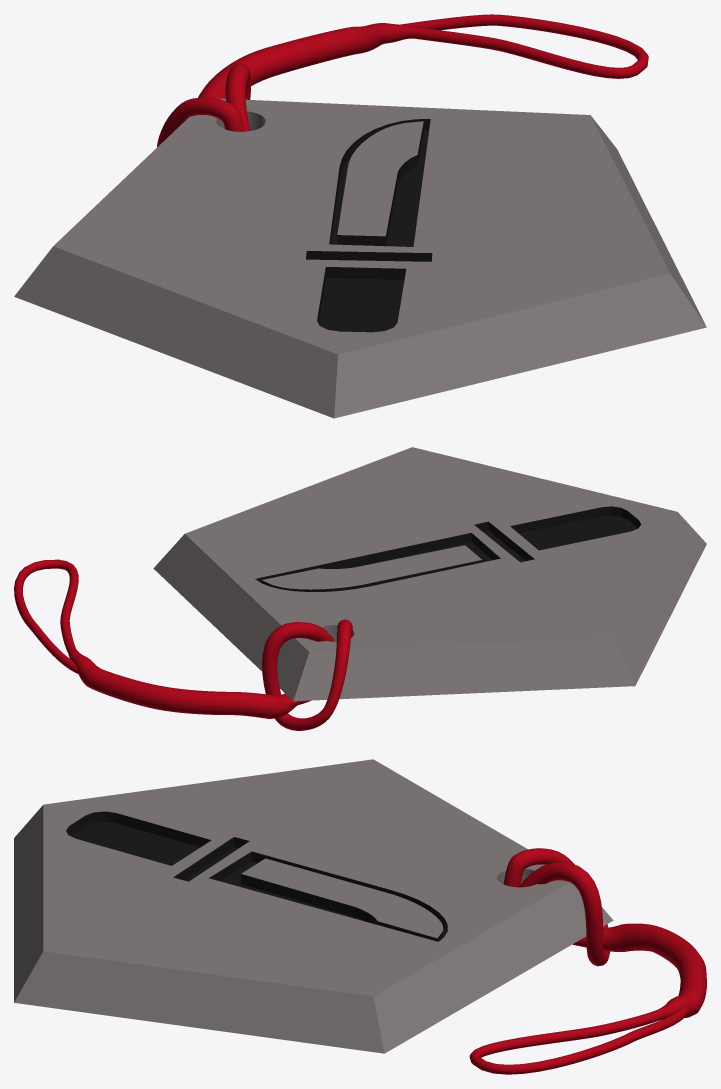
3 views of the same model, one above another, from view 1: azimuth 30°, elevation 25°; view 2: azimuth 150°, elevation 25°; view 3: azimuth 270°, elevation 25° (orthographic). The views are drawn at different scales.
Visible parts, largest first — view 1: 円.001, ベジエカーブ; view 2: 円.001, ベジエカーブ; view 3: 円.001, ベジエカーブ.
Boxes of the visible parts, left/top/right/bottom form: 円.001: left=14, top=98, right=706, bottom=418; ベジエカーブ: left=157, top=14, right=648, bottom=147; 円.001: left=153, top=447, right=706, bottom=701; ベジエカーブ: left=14, top=559, right=352, bottom=730; 円.001: left=14, top=759, right=613, bottom=1053; ベジエカーブ: left=469, top=848, right=706, bottom=1074.
Size of the model in its own units: 1.22 by 0.1938 by 1.16.
